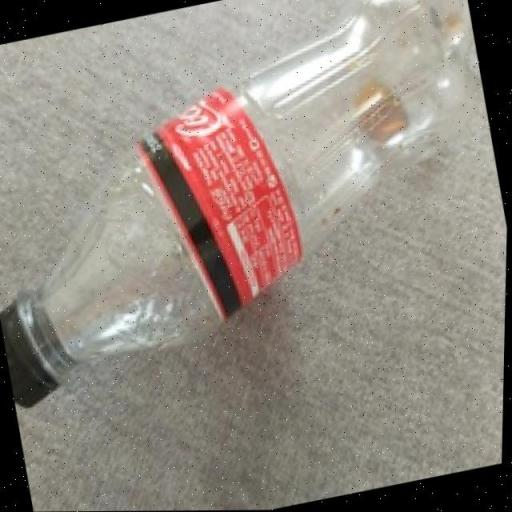plastic: (1, 0, 479, 407)
